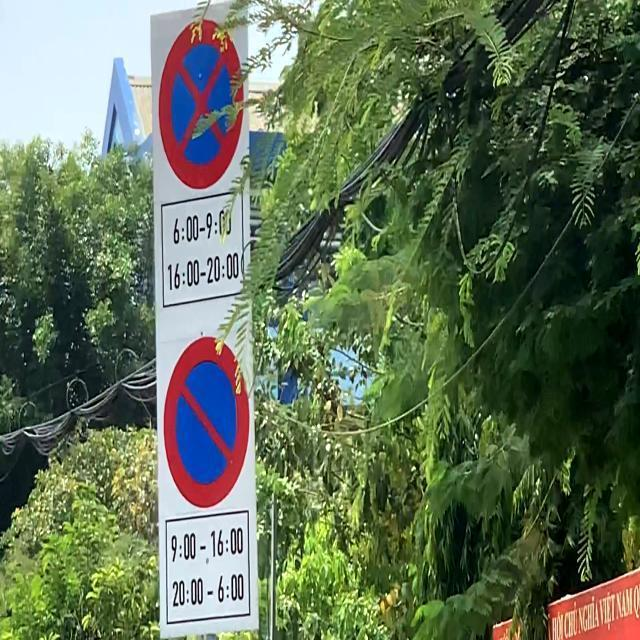130-cam-dung-va-do-xe: (158, 21, 244, 188)
131a-cam-do-xe: (164, 332, 253, 508)
